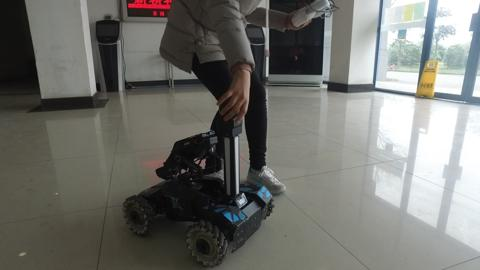chariot: (118, 98, 284, 266)
